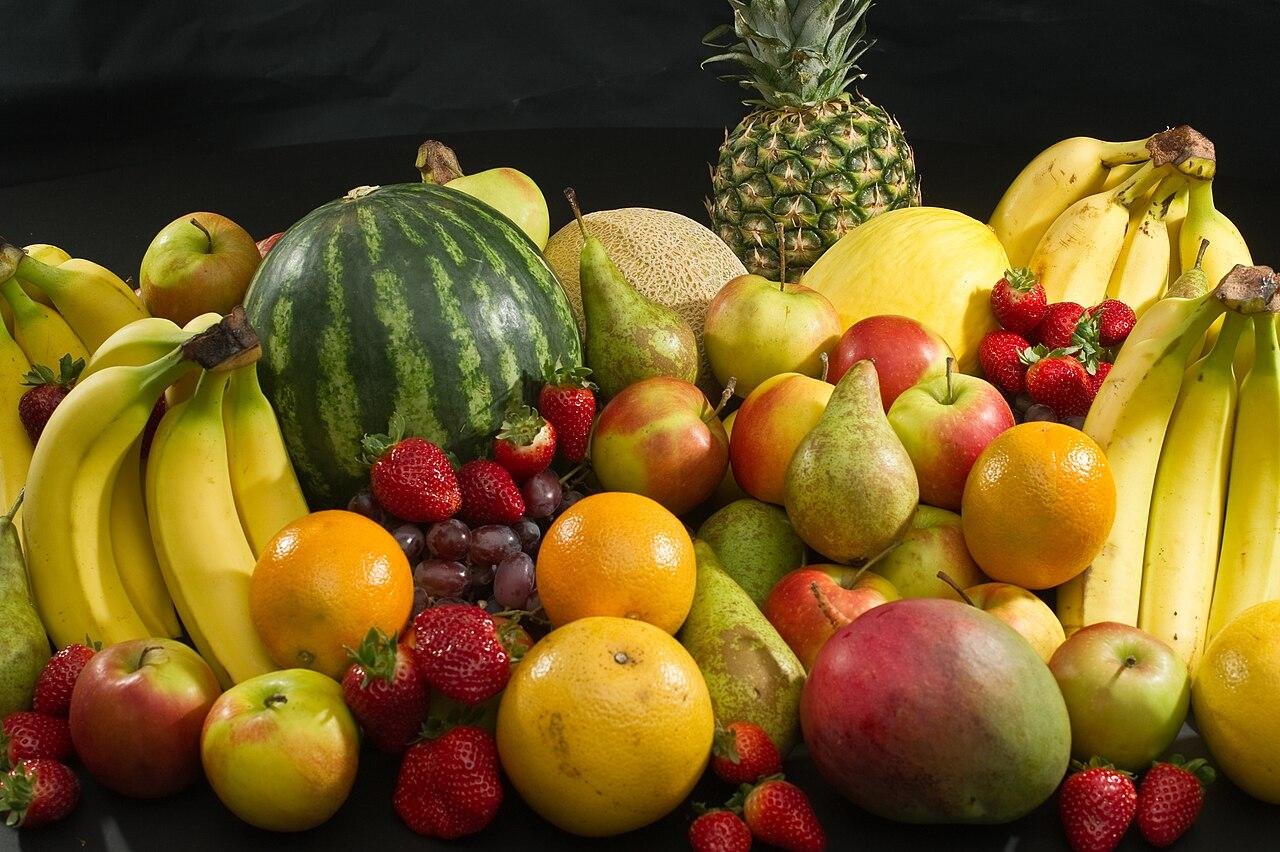apple: (66, 634, 215, 805), (201, 673, 352, 839), (600, 377, 733, 507), (891, 369, 999, 505), (136, 210, 251, 318), (704, 279, 840, 370)
banana: (23, 309, 269, 649), (1090, 260, 1280, 650)
mango: (800, 596, 1069, 828)
orange: (490, 619, 706, 844), (249, 503, 412, 677), (960, 421, 1117, 592), (531, 484, 700, 629)
strawberry: (394, 720, 503, 852), (401, 603, 510, 700), (357, 427, 462, 515), (343, 629, 426, 724), (744, 774, 838, 852), (1141, 757, 1215, 852), (1061, 763, 1136, 852), (541, 353, 595, 461), (494, 401, 564, 473), (6, 754, 76, 825), (1026, 349, 1092, 418), (716, 717, 781, 782), (986, 267, 1046, 332), (461, 461, 527, 520), (684, 801, 759, 852), (983, 331, 1033, 386), (4, 713, 59, 762)
watermelon: (260, 189, 581, 412)
